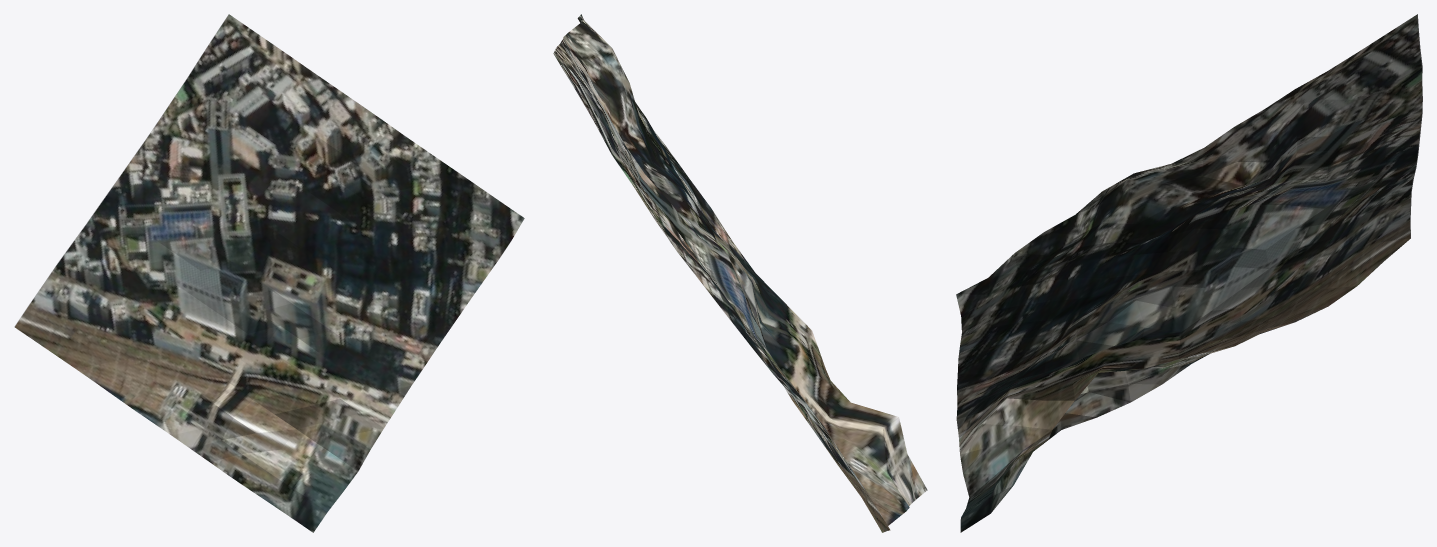
The picture shows the model from 3 angles, left to right: view 1: azimuth 30°, elevation 25°; view 2: azimuth 150°, elevation 25°; view 3: azimuth 270°, elevation 25°; orthographic projection. The views are drawn at different scales.
Size of the model in its own units: 538 by 561 by 416.
1 material, 1 textured.
